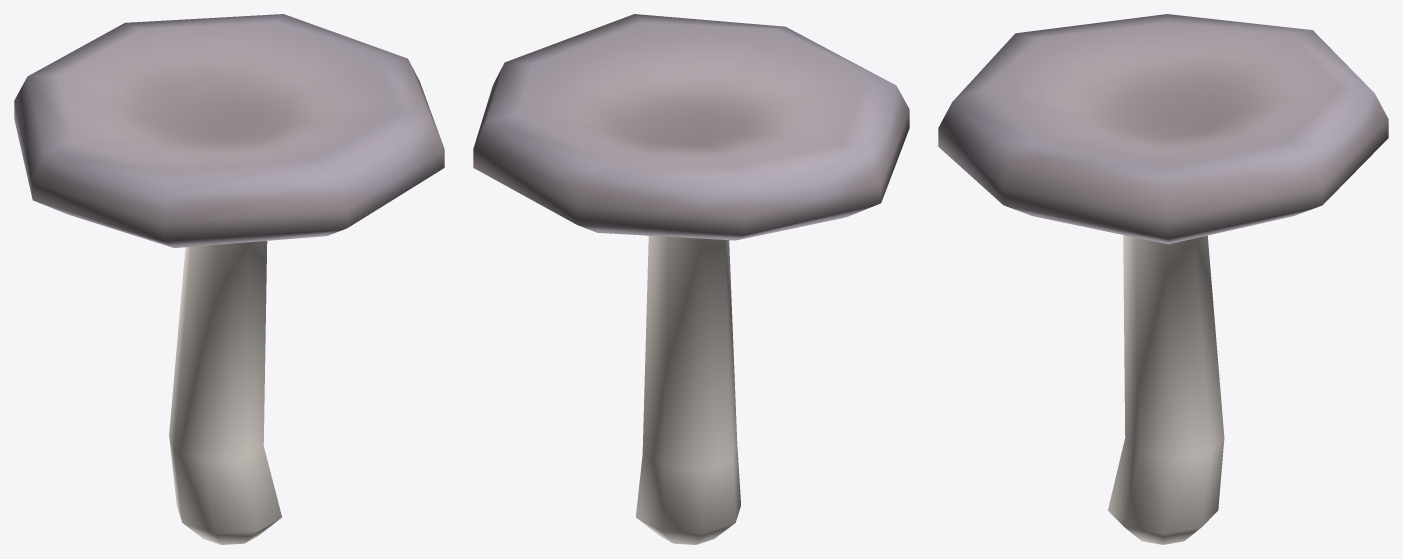
File: FlyagaricMushroom.fbx
3 renders of one model, left to right at view 1: azimuth 30°, elevation 25°; view 2: azimuth 150°, elevation 25°; view 3: azimuth 270°, elevation 25°, orthographic.
Visible parts, largest first — view 1: SM_woollymilkcap; view 2: SM_woollymilkcap; view 3: SM_woollymilkcap.
Part boxes in pixels (bbox=[...]): SM_woollymilkcap: bbox=[14, 14, 444, 544]; SM_woollymilkcap: bbox=[473, 14, 909, 544]; SM_woollymilkcap: bbox=[938, 14, 1388, 544].
Size of the model in its own units: 74.71 by 81.26 by 75.21.
